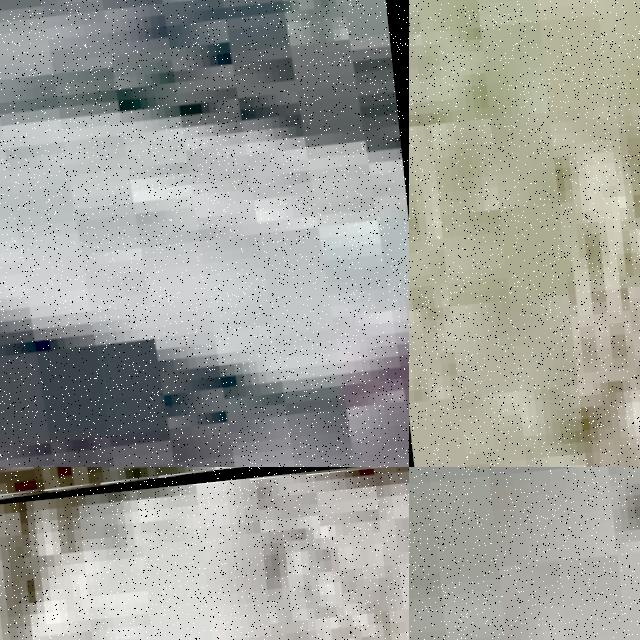drone: (0, 0, 409, 467), (0, 467, 409, 526)
